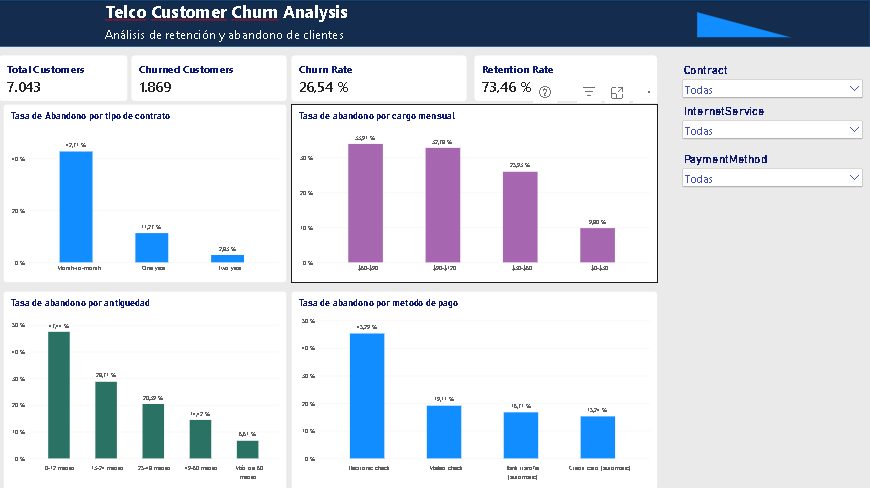

What the dashboard file says about the page in this screenshot:
{"tool":"powerbi","page":{"name":"Página 1","canvas":[1920,1080],"ordinal":0},"visuals":[{"type":"shape","box":[0,0,1920.3,103.1],"z":0},{"type":"cardVisual","fields":{"Data":["telco_churn_clean.Total Customers"]},"box":[0,122,284,102],"z":1000},{"type":"cardVisual","fields":{"Data":["telco_churn_clean.Churned Customers"]},"box":[290,122,344,102],"z":2000},{"type":"cardVisual","fields":{"Data":["telco_churn_clean.Churn Rate"]},"box":[643.7,121,388.8,103.7],"z":3000},{"type":"cardVisual","fields":{"Data":["telco_churn_clean.Retention Rate"]},"box":[1047.6,121,404,102],"z":4000},{"type":"clusteredColumnChart","title":"Tasa de Abandono por tipo de contrato","fields":{"Category":["telco_churn_clean.Contract"],"Y":["telco_churn_clean.Churn Rate"]},"box":[8,230,626,394],"z":5000},{"type":"clusteredColumnChart","title":"Tasa de abandono por antiguedad","fields":{"Category":["telco_churn_clean.TenureGroup"],"Y":["telco_churn_clean.Churn Rate"]},"box":[8,642,626,438],"z":6000},{"type":"clusteredColumnChart","title":"Tasa de abandono por cargo mensual","fields":{"Category":["telco_churn_clean.MonthlyChargesGroup"],"Y":["telco_churn_clean.Churn Rate"]},"box":[644,230,808,394],"z":7000},{"type":"clusteredColumnChart","title":"Tasa de abandono por metodo de pago","fields":{"Category":["telco_churn_clean.PaymentMethod"],"Y":["telco_churn_clean.Churn Rate"]},"box":[644,642,808,438],"z":8000},{"type":"slicer","fields":{"Values":["telco_churn_clean.Contract"]},"box":[1500,138,408,92],"z":10000},{"type":"slicer","fields":{"Values":["telco_churn_clean.PaymentMethod"]},"box":[1500,336,408,92],"z":11000},{"type":"slicer","fields":{"Values":["telco_churn_clean.InternetService"]},"box":[1500,230,408,106],"z":12000},{"type":"textbox","box":[234,54,656,38],"z":14000},{"type":"textbox","box":[234,0,564,52],"z":15000},{"type":"shape","box":[1538,26,208,56],"z":15001}]}

Visuals, with their boxes in screenshot pixels (x1, y1, x2, y2), scaled from the page's 1920x1080 canvas onto the 870x488 screenshot:
shape: box=[0, 0, 869, 47]
cardVisual - telco_churn_clean.Total Customers: box=[0, 55, 129, 101]
cardVisual - telco_churn_clean.Churned Customers: box=[131, 55, 287, 101]
cardVisual - telco_churn_clean.Churn Rate: box=[292, 55, 468, 102]
cardVisual - telco_churn_clean.Retention Rate: box=[475, 55, 658, 101]
"Tasa de Abandono por tipo de contrato" clusteredColumnChart: box=[4, 104, 287, 282]
"Tasa de abandono por antiguedad" clusteredColumnChart: box=[4, 290, 287, 487]
"Tasa de abandono por cargo mensual" clusteredColumnChart: box=[292, 104, 658, 282]
"Tasa de abandono por metodo de pago" clusteredColumnChart: box=[292, 290, 658, 487]
slicer - telco_churn_clean.Contract: box=[680, 62, 865, 104]
slicer - telco_churn_clean.PaymentMethod: box=[680, 152, 865, 193]
slicer - telco_churn_clean.InternetService: box=[680, 104, 865, 152]
textbox: box=[106, 24, 403, 42]
textbox: box=[106, 0, 362, 23]
shape: box=[697, 12, 791, 37]
